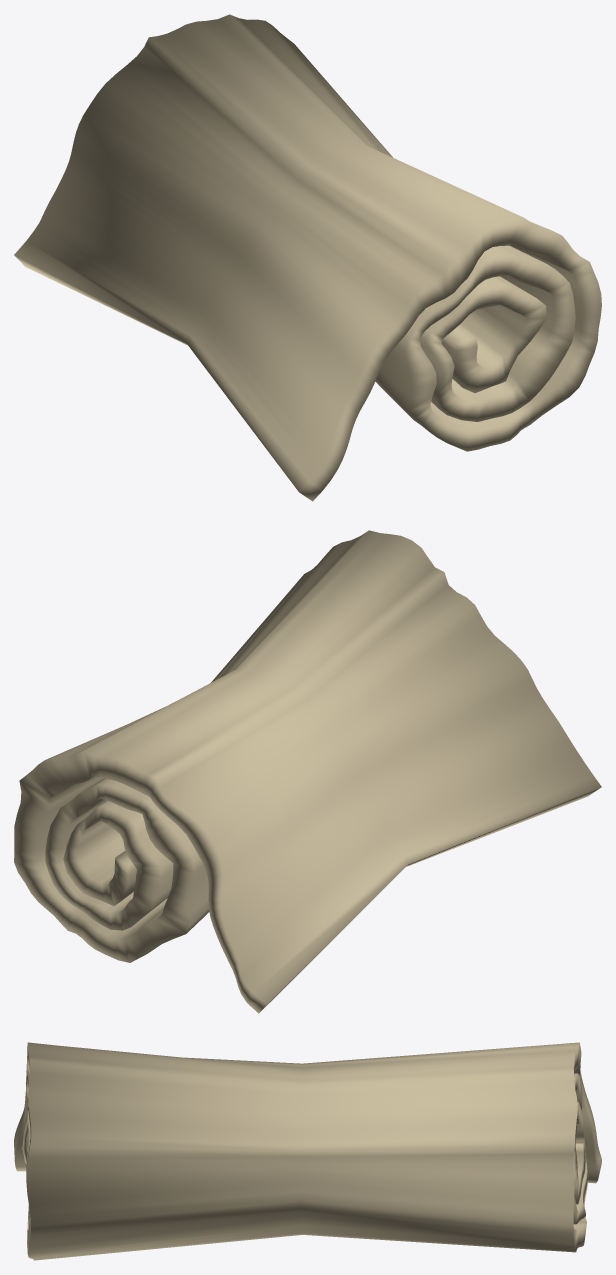
File: wet_cloth.fbx
3 views of the same model, one above another, from view 1: azimuth 30°, elevation 25°; view 2: azimuth 150°, elevation 25°; view 3: azimuth 270°, elevation 25° (orthographic). The views are drawn at different scales.
Parts seen in each view (by area): view 1: wet_cloth; view 2: wet_cloth; view 3: wet_cloth.
Part boxes in pixels (<box>): wet_cloth: <box>14,14,601,501</box>; wet_cloth: <box>14,530,601,1013</box>; wet_cloth: <box>14,1042,601,1260</box>.
Bounding box in the file's own units: 24.84 × 17.47 × 44.22.
